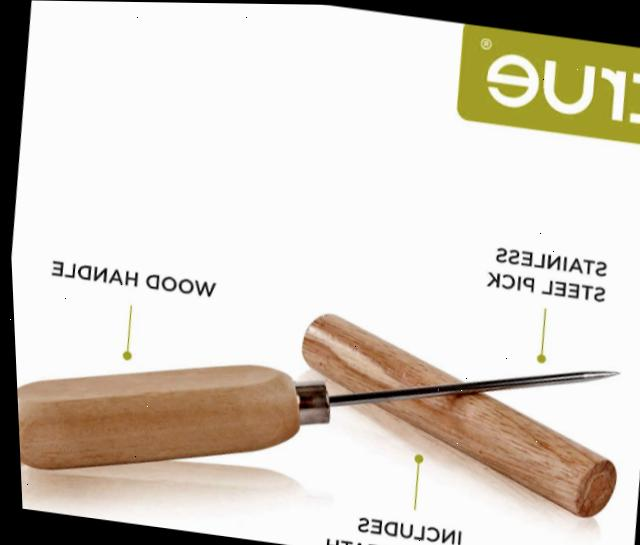ice pick: (10, 286, 620, 542), (281, 306, 630, 521)
